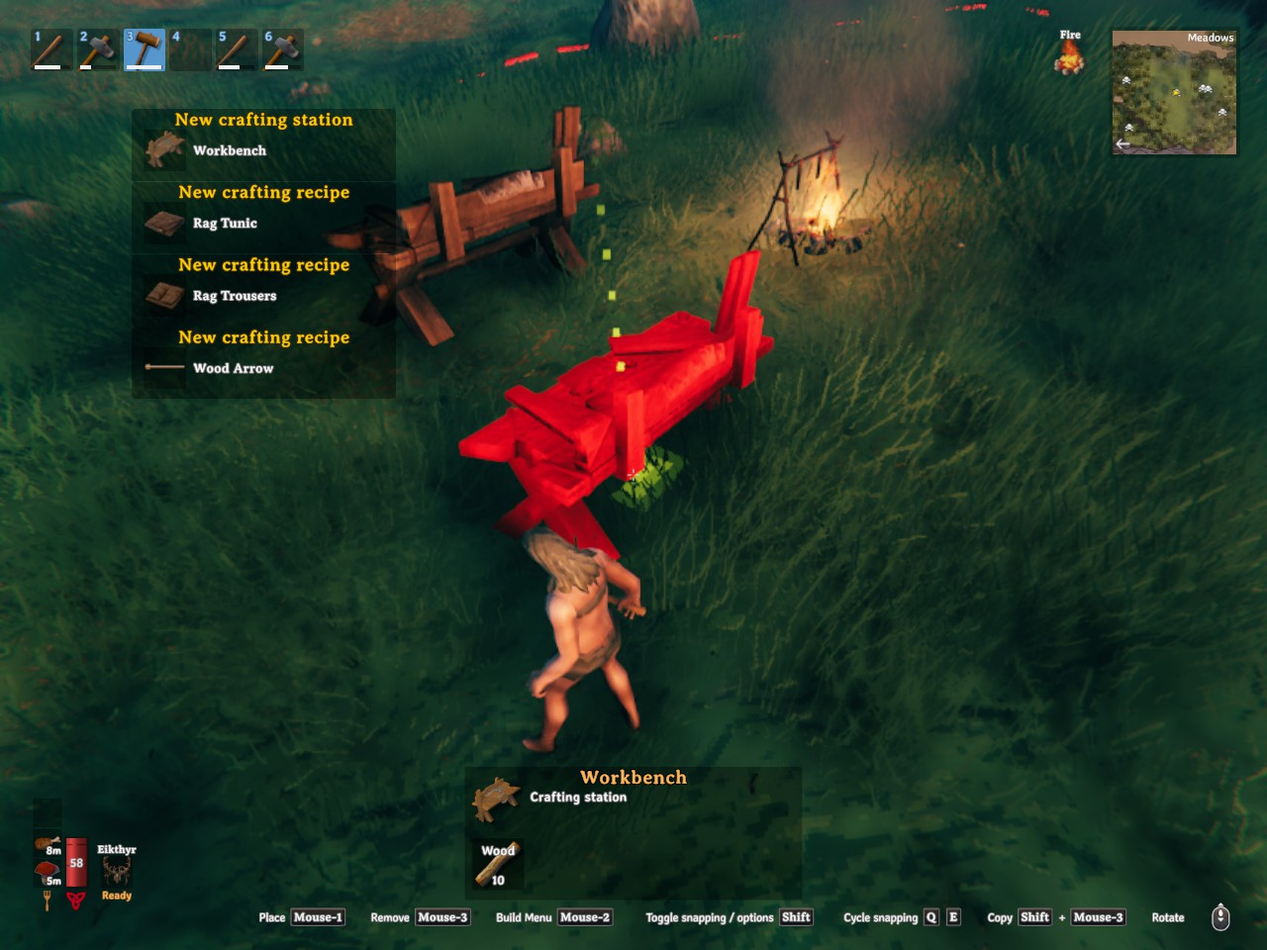Club: (615, 435, 638, 558)
Fire: (776, 188, 862, 263)
Food Indicator: (36, 797, 63, 891)
Health Bar: (63, 820, 90, 891)
Hotbar: (25, 21, 398, 78)
New Recipies: (135, 106, 377, 388)
Status Indicator: (1034, 25, 1110, 96)
Workbench: (327, 106, 600, 344)
